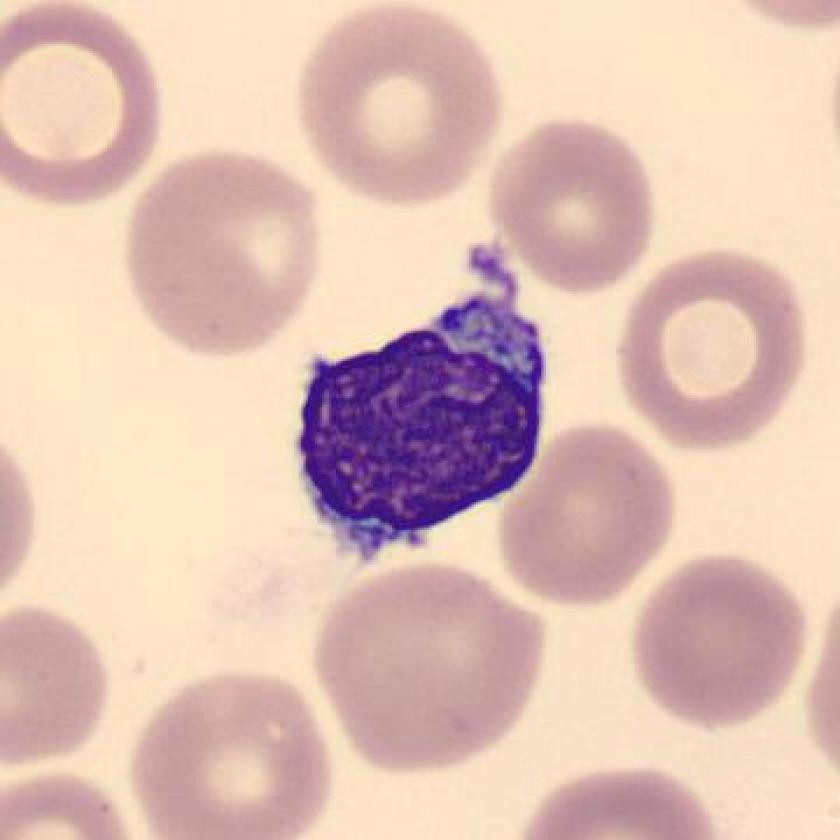lymphocyte: (284, 235, 564, 586)
